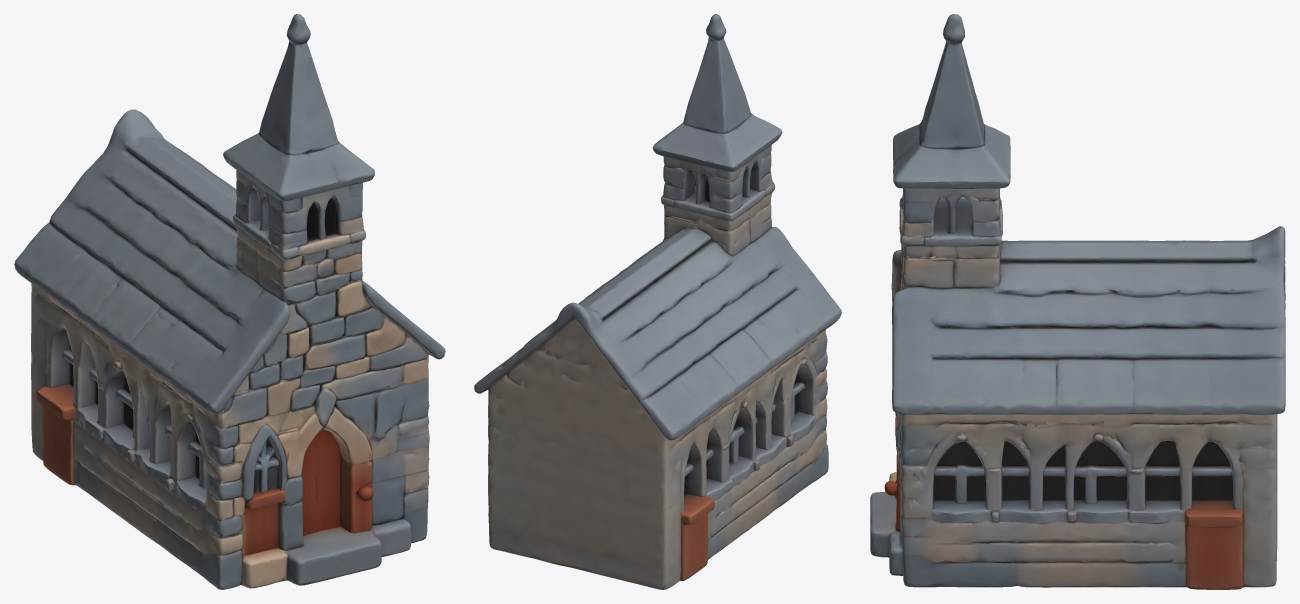
Rendered from church.glb.
3 views of the same model, side by side, from view 1: azimuth 30°, elevation 25°; view 2: azimuth 150°, elevation 25°; view 3: azimuth 270°, elevation 25° (orthographic). The views are drawn at different scales.
Visible parts, largest first — view 1: Mesh; view 2: Mesh; view 3: Mesh.
Part boxes in pixels (left/top/right/bottom): Mesh: left=14, top=14, right=445, bottom=589; Mesh: left=474, top=14, right=841, bottom=589; Mesh: left=870, top=14, right=1285, bottom=589.
Bounding box in the file's own units: 0.878 × 1.9 × 1.36.
1 material, 1 textured.
